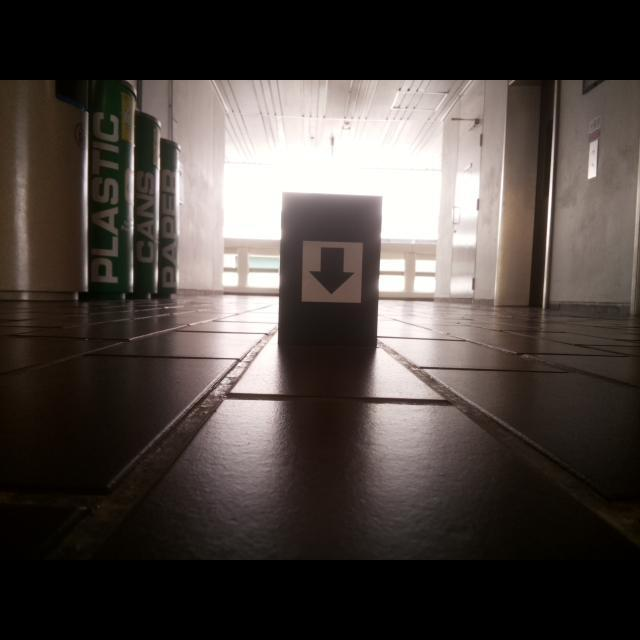DOWN: (307, 247, 355, 296)
